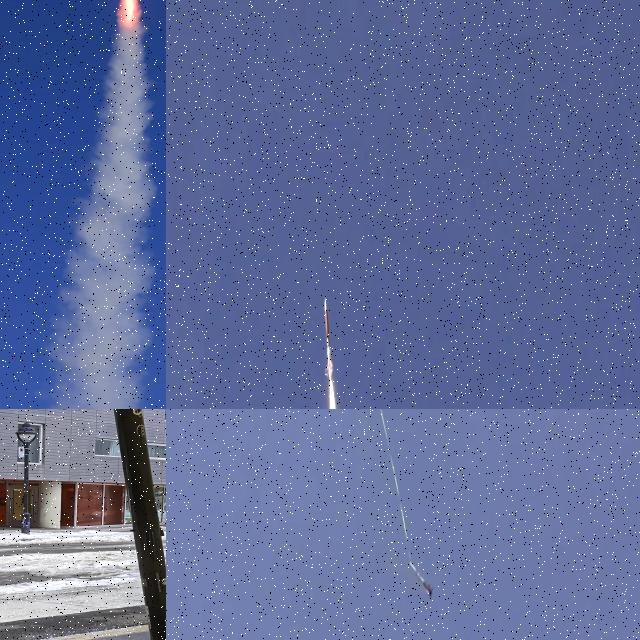Rocket: (113, 409, 166, 640), (409, 561, 434, 598), (324, 298, 334, 383)
